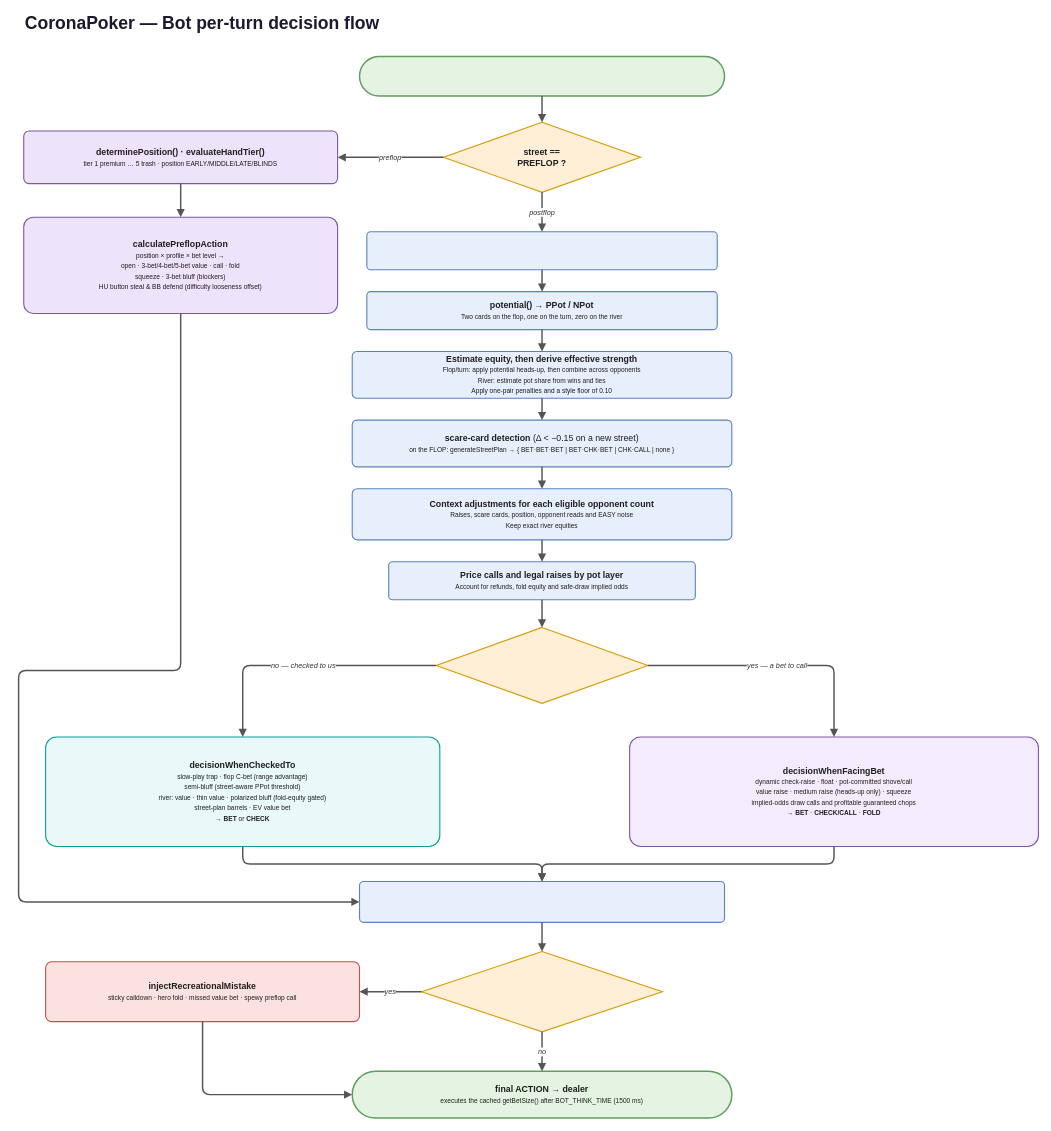
Image size: 1051x1131. Some labels were removed from this diagram. Here are the shapes that lost their labels. From the top down, the centre of each, then its label:
(x=541, y=75): Crupier reaches a CPU seat Bot.calculateBotDecision(opponents)
(x=541, y=250): showdownOdds Heads-up win and tie frequencies cached per street
(x=541, y=665): facing a bet ? callCost > 0
(x=542, y=902): raw decision : BET / CHECK-CALL / FOLD
(x=542, y=991): recreational mistake ? roll < rate · EASY 45% · MEDIUM 22% · HARD 0%
